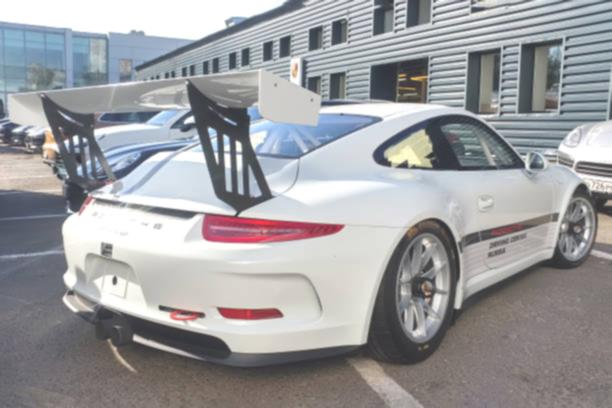porsche: (88, 208, 167, 235)
